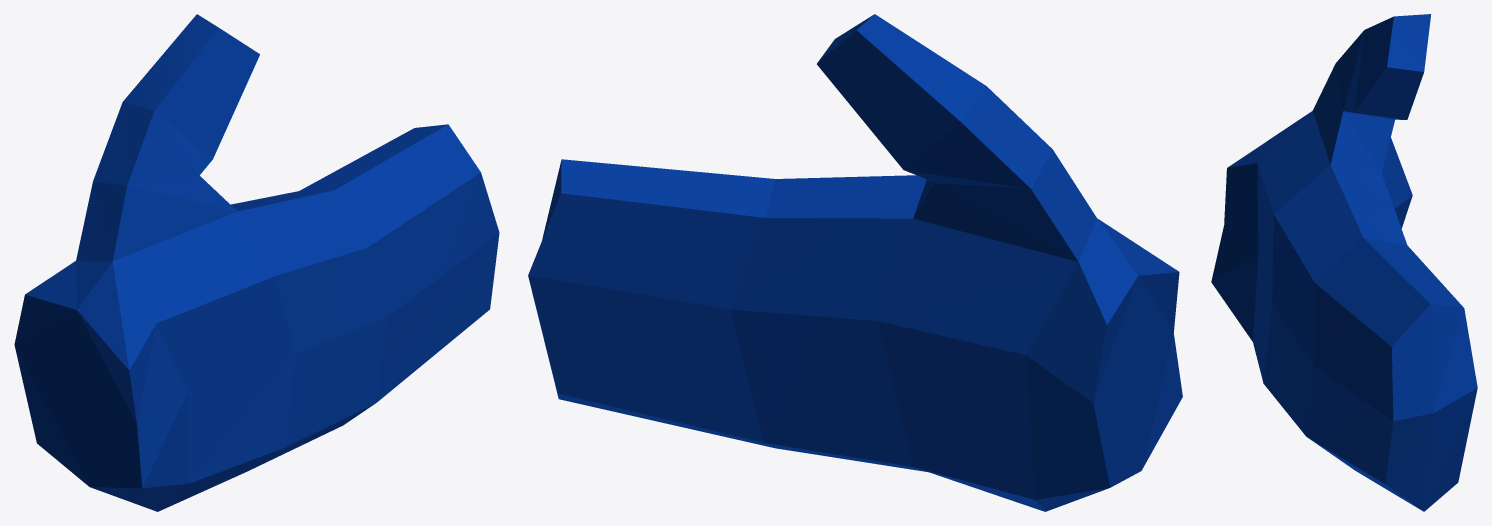
Rendered from abe_right_hand.obj.
3 views of the same model, side by side, from view 1: azimuth 30°, elevation 25°; view 2: azimuth 150°, elevation 25°; view 3: azimuth 270°, elevation 25° (orthographic). The views are drawn at different scales.
Visible parts, largest first — view 1: RightHand.001_Hand.002; view 2: RightHand.001_Hand.002; view 3: RightHand.001_Hand.002.
Part boxes in pixels (x1,y1,x2,y2): RightHand.001_Hand.002: (14, 14, 499, 511); RightHand.001_Hand.002: (528, 14, 1182, 511); RightHand.001_Hand.002: (1211, 14, 1477, 511).
Bounding box in the file's own units: 0.2299 × 0.1982 × 0.1128.
